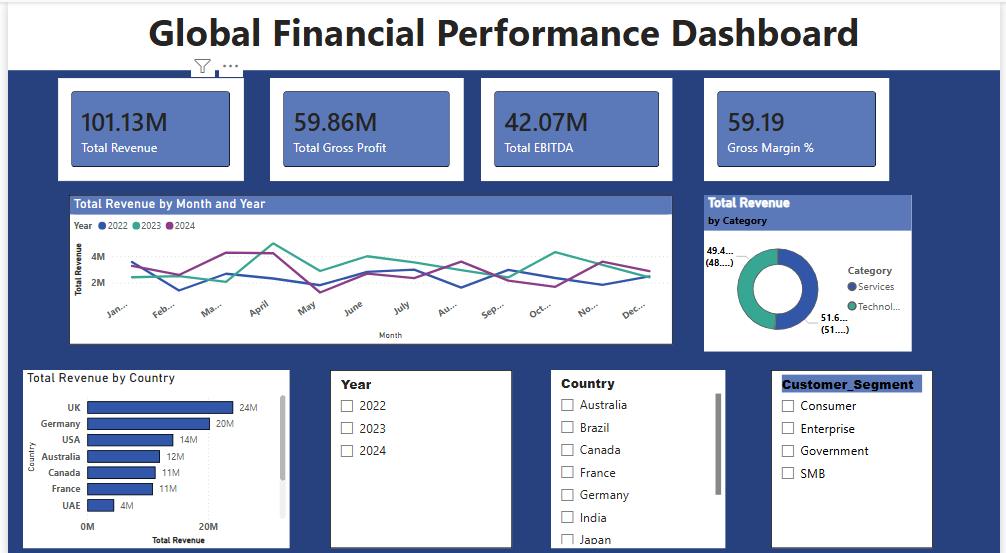

The page's visual inventory and layout, read from the dashboard file:
{"tool":"powerbi","page":{"name":"Page 1","canvas":[1280,720],"ordinal":0},"visuals":[{"type":"textbox","box":[0,0,1280,88.4],"z":0},{"type":"cardVisual","fields":{"Data":["Financial_Report_International.Total Revenue"]},"box":[65.1,98.4,239.3,132.9],"z":1000},{"type":"cardVisual","fields":{"Data":["Financial_Report_International.Gross Margin %"]},"box":[898.5,98.4,239.3,132.9],"z":2000},{"type":"cardVisual","fields":{"Data":["Financial_Report_International.Total Gross Profit"]},"box":[337.6,98.4,249.9,132.9],"z":3000},{"type":"cardVisual","fields":{"Data":["Financial_Report_International.Total EBITDA"]},"box":[610.1,98.4,247.2,132.9],"z":4000},{"type":"lineChart","fields":{"Y":["Financial_Report_International.Total Revenue"],"Category":["Financial_Report_International.Date.Variation.Date Hierarchy.Month"],"Series":["Financial_Report_International.Year"]},"box":[78.6,248.8,779.1,193.1],"z":5000},{"type":"barChart","fields":{"Y":["Financial_Report_International.Total Revenue"],"Category":["Financial_Report_International.Country"]},"box":[19.9,474.5,344.3,229.9],"z":6000},{"type":"donutChart","fields":{"Category":["Financial_Report_International.Category"],"Y":["Financial_Report_International.Total Revenue"]},"box":[898.5,248.6,268.5,202],"z":7000},{"type":"slicer","fields":{"Values":["Financial_Report_International.Year"]},"box":[416,474.5,235.3,229.9],"z":8000},{"type":"slicer","fields":{"Values":["Financial_Report_International.Country"]},"box":[700.5,474.5,224.6,229.9],"z":9000},{"type":"slicer","fields":{"Values":["Financial_Report_International.Customer_Segment"]},"box":[984.9,474.5,208.7,229.9],"z":10000}]}

Visuals, with their boxes in screenshot pixels (x1, y1, x2, y2), scaled from the page's 1280x720 canvas onto the 1006x553 screenshot:
textbox: x1=0, y1=0, x2=1005, y2=68
cardVisual - Financial_Report_International.Total Revenue: x1=51, y1=76, x2=239, y2=178
cardVisual - Financial_Report_International.Gross Margin %: x1=706, y1=76, x2=894, y2=178
cardVisual - Financial_Report_International.Total Gross Profit: x1=265, y1=76, x2=462, y2=178
cardVisual - Financial_Report_International.Total EBITDA: x1=480, y1=76, x2=674, y2=178
lineChart - Financial_Report_International.Total Revenue x Financial_Report_International.Date.Variation.Date Hierarchy.Month: x1=62, y1=191, x2=674, y2=339
barChart - Financial_Report_International.Total Revenue x Financial_Report_International.Country: x1=16, y1=364, x2=286, y2=541
donutChart - Financial_Report_International.Category x Financial_Report_International.Total Revenue: x1=706, y1=191, x2=917, y2=346
slicer - Financial_Report_International.Year: x1=327, y1=364, x2=512, y2=541
slicer - Financial_Report_International.Country: x1=551, y1=364, x2=727, y2=541
slicer - Financial_Report_International.Customer_Segment: x1=774, y1=364, x2=938, y2=541
